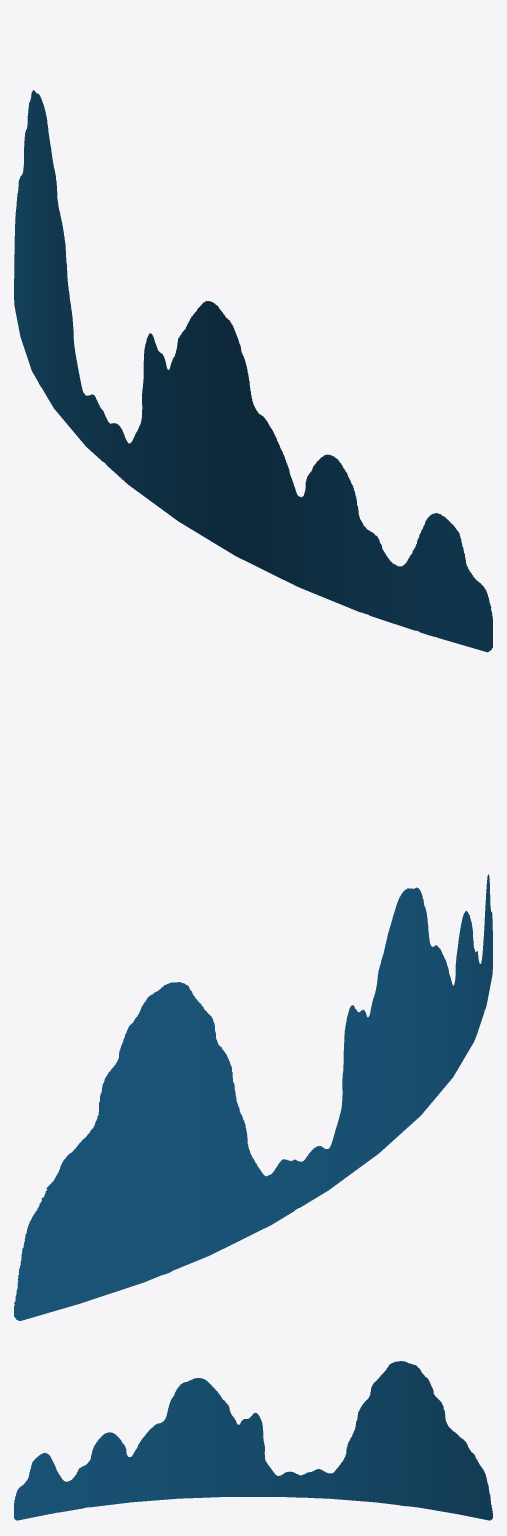
Rendered from SM_MeshCard.fbx.
3 renders of one model, top to bottom at view 1: azimuth 30°, elevation 25°; view 2: azimuth 150°, elevation 25°; view 3: azimuth 270°, elevation 25°, orthographic. The views are drawn at different scales.
Visible parts, largest first — view 1: SM_MeshCard_01; view 2: SM_MeshCard_01; view 3: SM_MeshCard_01.
Boxes of the visible parts, bbox=[...] form: SM_MeshCard_01: bbox=[14, 90, 492, 652]; SM_MeshCard_01: bbox=[14, 874, 492, 1320]; SM_MeshCard_01: bbox=[14, 1361, 492, 1520].
Size of the model in its own units: 1.45 by 4 by 12.
